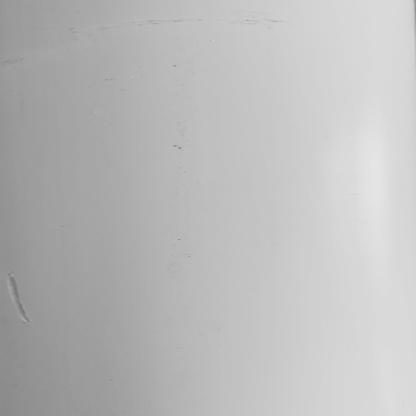sunshang: (3, 274, 32, 325)
